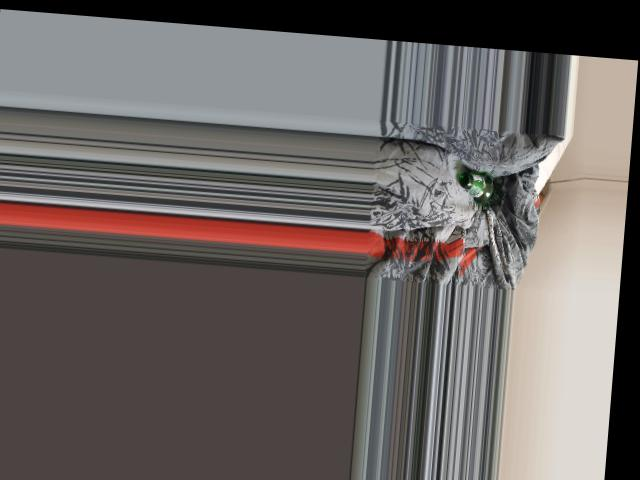beer: (456, 169, 504, 206)
